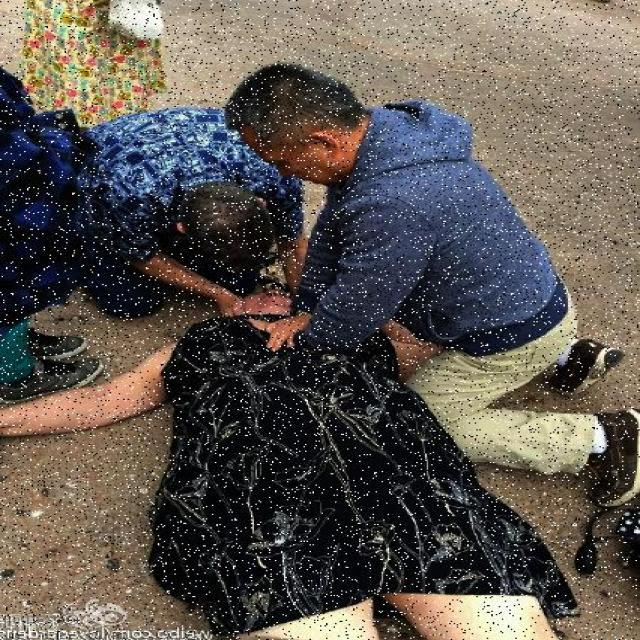fall: (146, 274, 527, 639)
